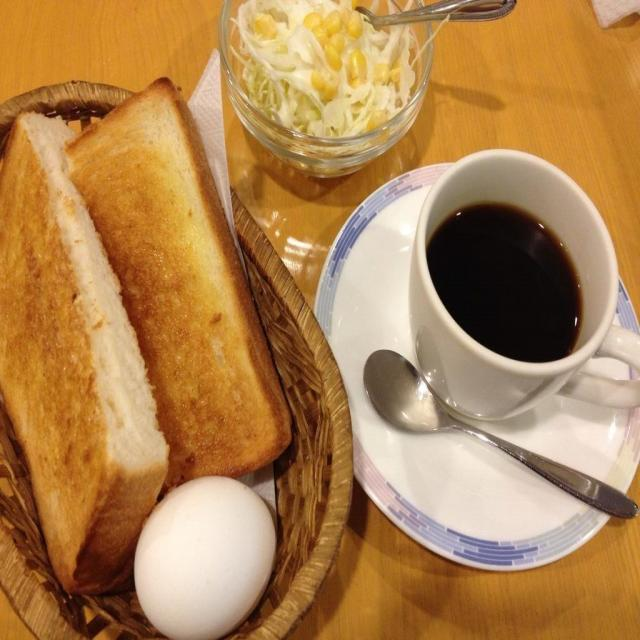cup-handle: (405, 148, 640, 423)
